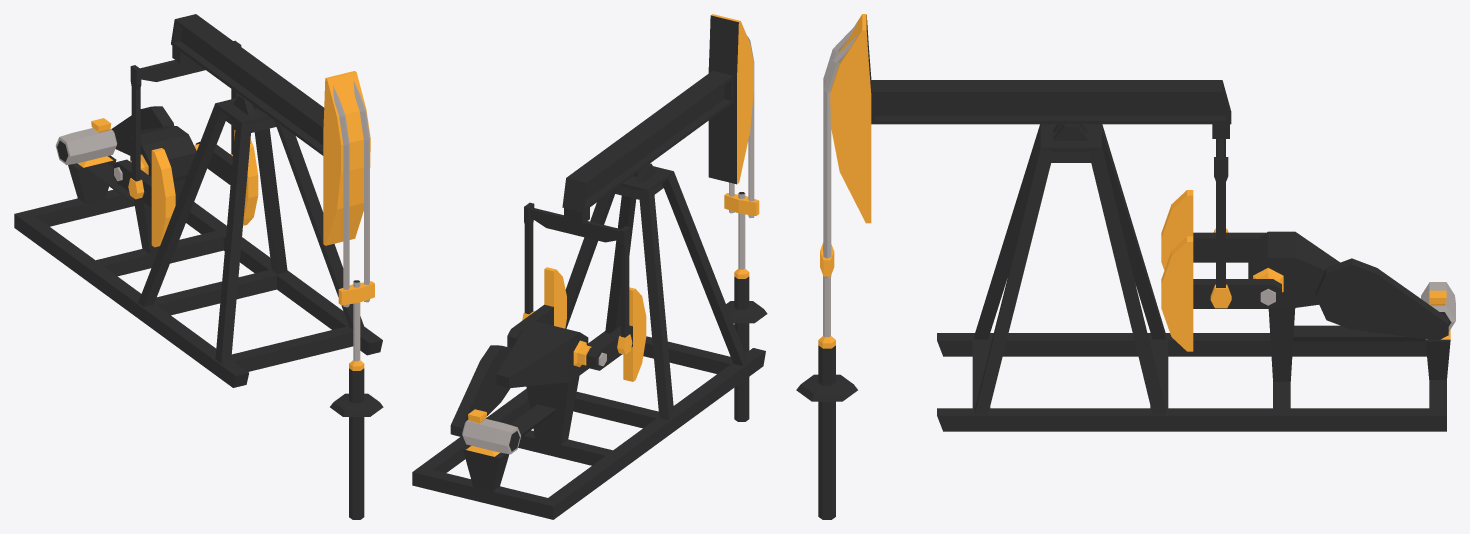
The model's file is pumpjack.glb.
3 views of the same model, side by side, from view 1: azimuth 30°, elevation 25°; view 2: azimuth 150°, elevation 25°; view 3: azimuth 270°, elevation 25° (orthographic). The views are drawn at different scales.
Parts seen in each view (by area): view 1: pumpjack; view 2: pumpjack; view 3: pumpjack.
Boxes of the visible parts, x1,y1,x2,y2 form: pumpjack: (14, 14, 383, 519); pumpjack: (412, 14, 767, 519); pumpjack: (796, 14, 1455, 519).
Bounding box in the file's own units: 2.2 × 6.14 × 7.42.
1 material, 1 textured.
